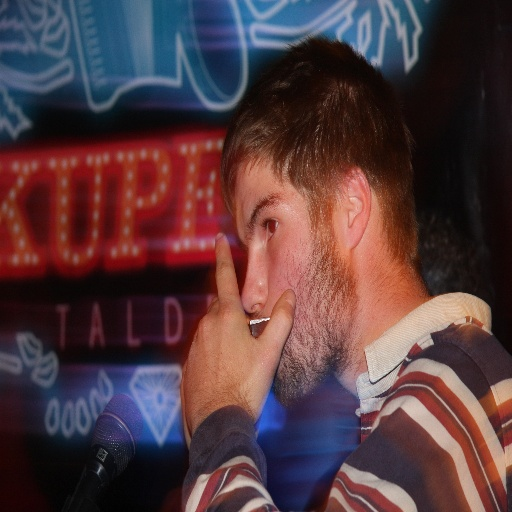hand: (180, 234, 291, 437)
